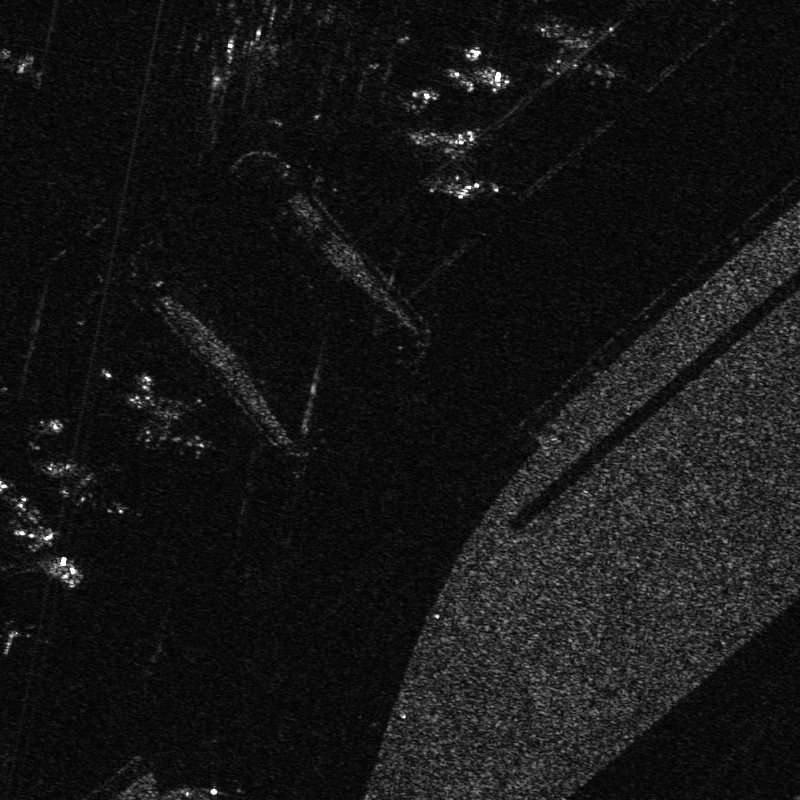Boeing737: (535, 2, 631, 88), (127, 379, 217, 466), (44, 450, 128, 527)
